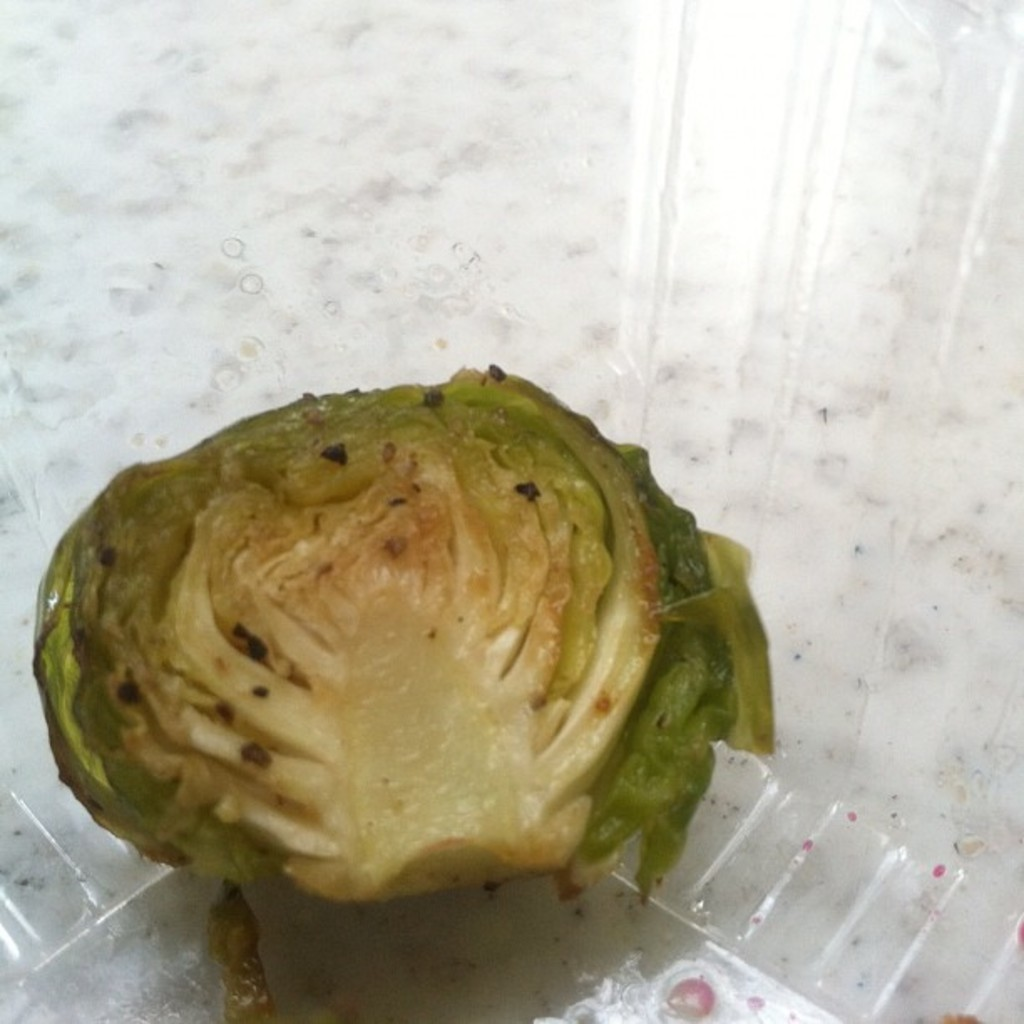Cabbage: (32, 363, 776, 904)
